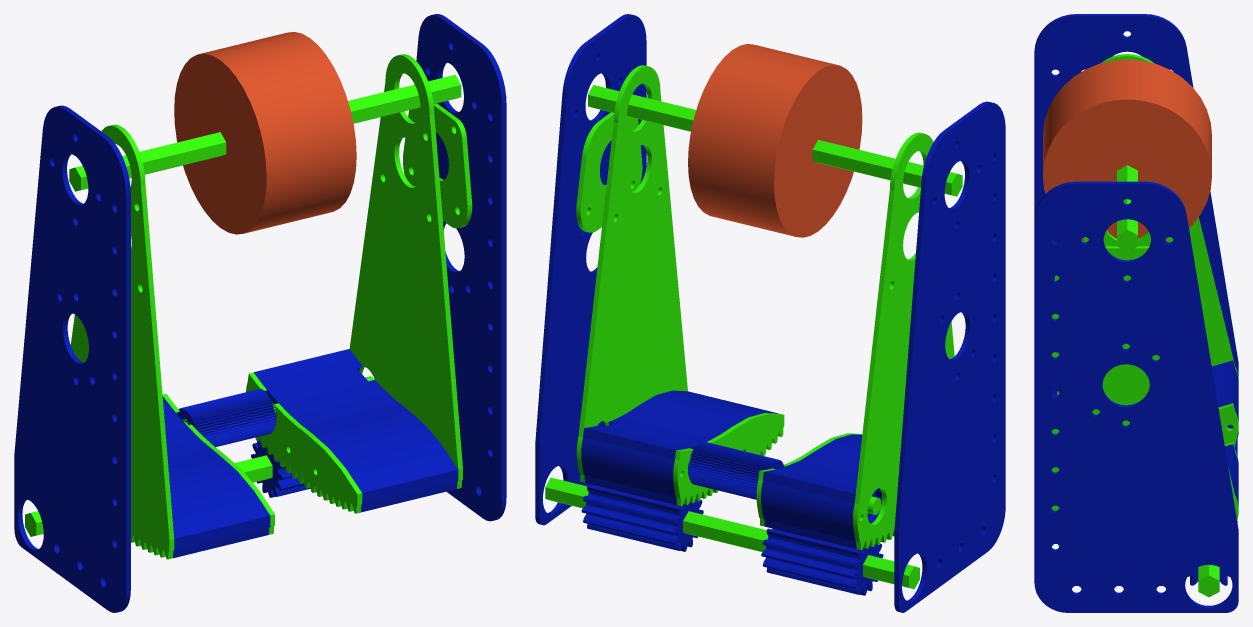
The picture shows the model from 3 angles, left to right: view 1: azimuth 30°, elevation 25°; view 2: azimuth 150°, elevation 25°; view 3: azimuth 270°, elevation 25°; orthographic projection. The views are drawn at different scales.
Visible parts, largest first — view 1: Part 14, Part 22, Part 11, Part 13, Canivete direito, Part 12, Canivete esquerdo, Part 15, Part 18, Part 23, Roda Aderente, Part 20 (+2 smaller); view 2: Part 14, Part 22, Part 11, Part 13, Part 12, Canivete direito, Canivete esquerdo, Part 21, Part 20, Part 18, Part 17, Part 23 (+2 smaller); view 3: Part 13, Part 22, Part 14, Part 12, Part 11, Canivete esquerdo, Part 18, Part 17, Part 16, Canivete direito, Part 23.
Part boxes in pixels (x1,y1,x2,y2): Part 14: [14, 105, 130, 612]; Part 22: [174, 32, 356, 234]; Part 11: [349, 54, 462, 488]; Part 13: [414, 14, 506, 521]; Canivete direito: [254, 349, 458, 512]; Part 12: [70, 124, 174, 559]; Canivete esquerdo: [162, 396, 270, 558]; Part 15: [246, 372, 362, 513]; Part 18: [69, 74, 461, 191]; Part 23: [403, 103, 472, 228]; Roda Aderente: [176, 389, 275, 447]; Part 20: [251, 440, 310, 497]; Part 14: [894, 101, 1005, 612]; Part 22: [688, 44, 862, 237]; Part 11: [576, 65, 687, 482]; Part 13: [535, 14, 646, 525]; Part 12: [853, 132, 954, 549]; Canivete direito: [581, 390, 778, 504]; Canivete esquerdo: [761, 434, 882, 548]; Part 21: [761, 528, 883, 595]; Part 20: [581, 485, 703, 551]; Part 18: [588, 85, 962, 196]; Part 17: [545, 477, 919, 589]; Part 23: [576, 112, 642, 232]; Part 13: [1034, 181, 1238, 612]; Part 22: [1043, 59, 1211, 240]; Part 14: [1034, 14, 1238, 437]; Part 12: [1051, 54, 1238, 378]; Part 11: [1051, 198, 1238, 546]; Canivete esquerdo: [1051, 360, 1238, 428]; Part 18: [1117, 165, 1137, 251]; Part 17: [1198, 564, 1219, 597]; Part 16: [1218, 403, 1238, 446]; Canivete direito: [1225, 444, 1238, 505]; Part 23: [1105, 246, 1149, 347].
Bounding box in the file's own units: 0.241 × 0.2973 × 0.1226.
